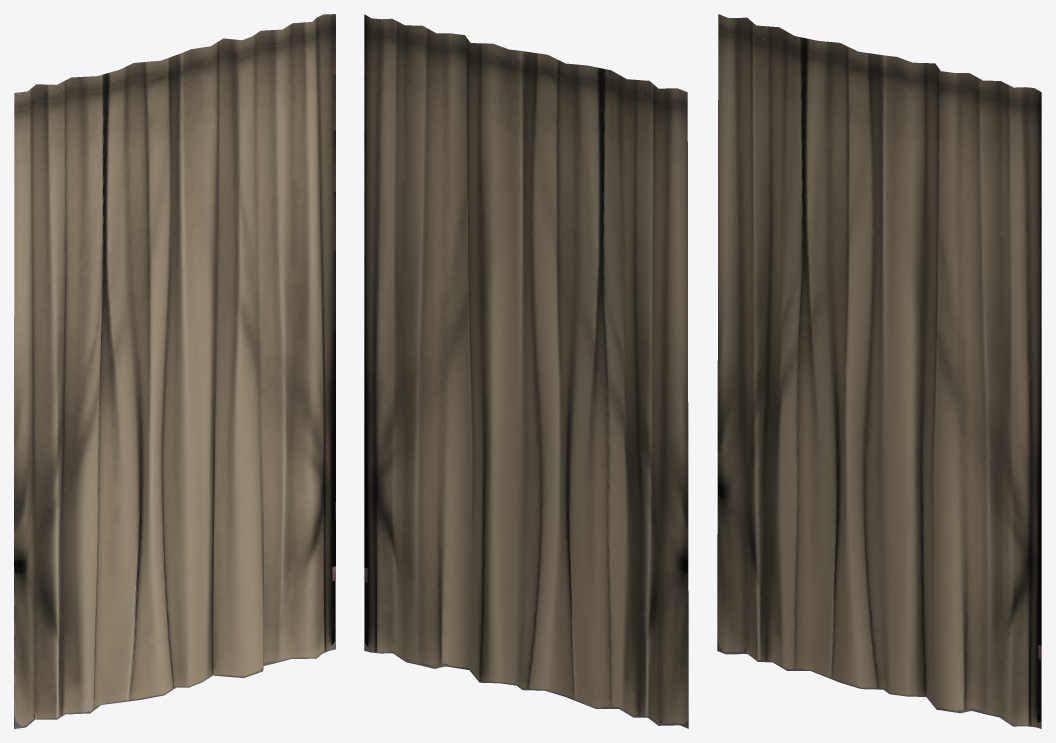
Rendered from Curtain03B.FBX.
3 views of the same model, side by side, from view 1: azimuth 30°, elevation 25°; view 2: azimuth 150°, elevation 25°; view 3: azimuth 330°, elevation 25° (orthographic).
Parts seen in each view (by area): view 1: Curtain03B; view 2: Curtain03B; view 3: Curtain03B.
Boxes of the visible parts, bbox=[...] form: Curtain03B: bbox=[14, 14, 335, 728]; Curtain03B: bbox=[364, 14, 688, 728]; Curtain03B: bbox=[717, 14, 1041, 728].
Size of the model in its own units: 293 by 16.3 by 551.
